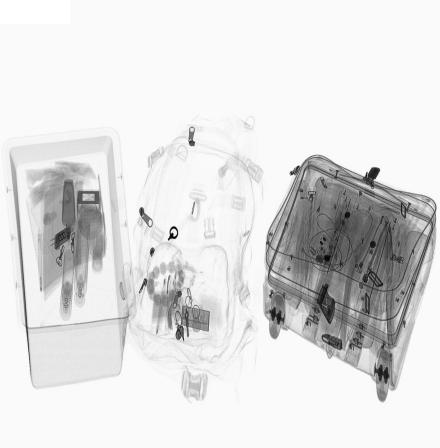Lighter: (331, 205, 355, 236)
